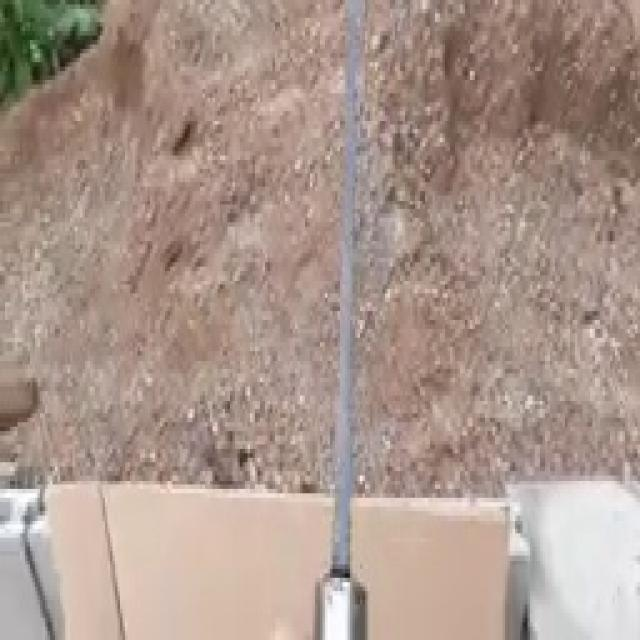eto: (319, 2, 366, 636)
